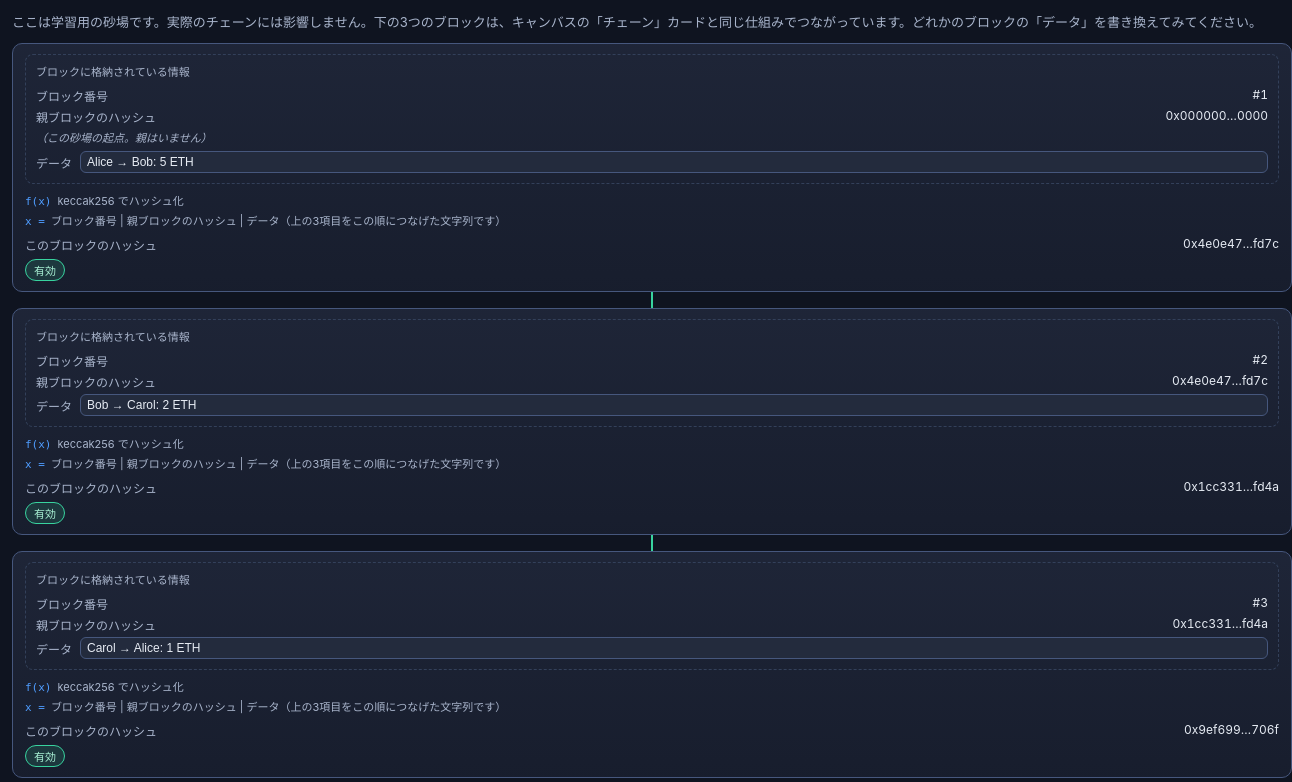
Test: HashChainDemoView accessibility › conveys invalidity with text (not color alone) in the badge
Replace the text in the field with test id "hash-chain-demo-data-1" with "tampered" at (674, 162), box [80,151,1268,173]
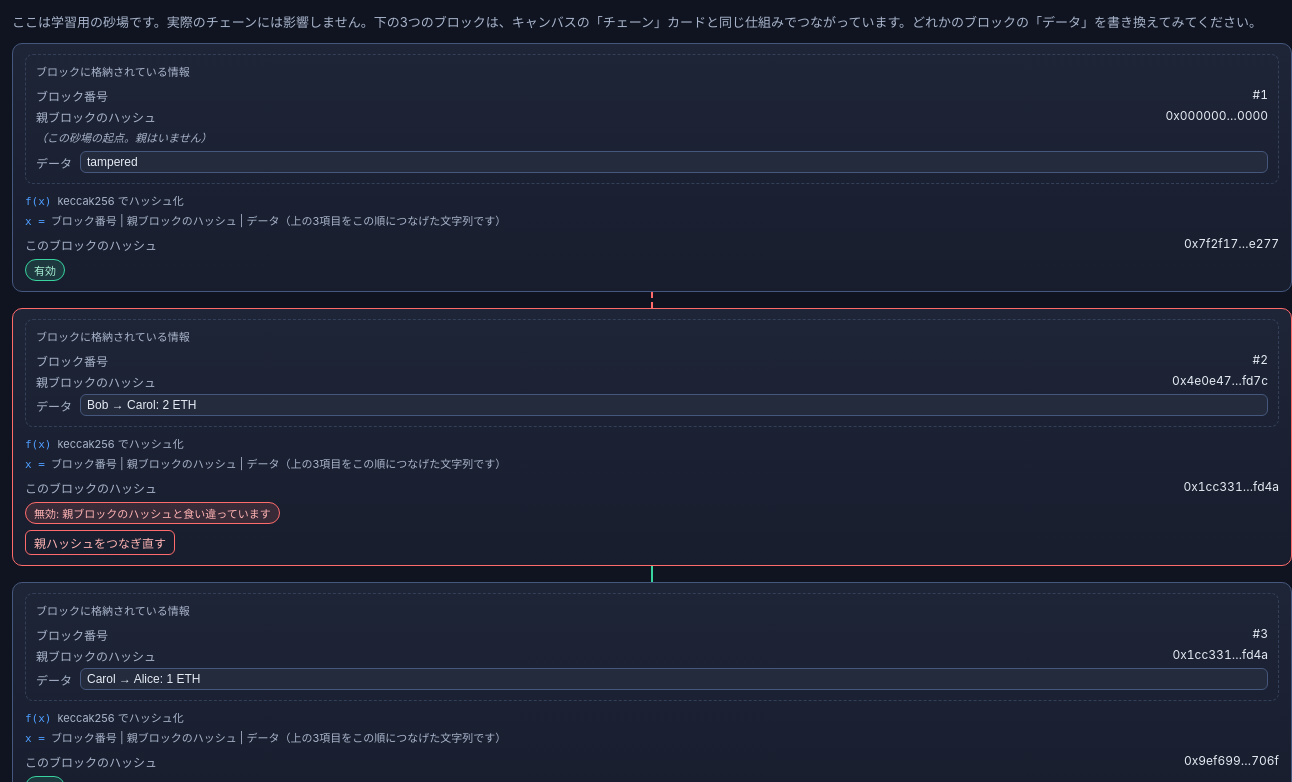
Check: the text "有効" below "（この砂場の起点。親はいません）" is shown, box [34,264,56,278]
Check: the text with test id "hash-chain-demo-badge-2" shows "無効", box [34,507,271,521]
